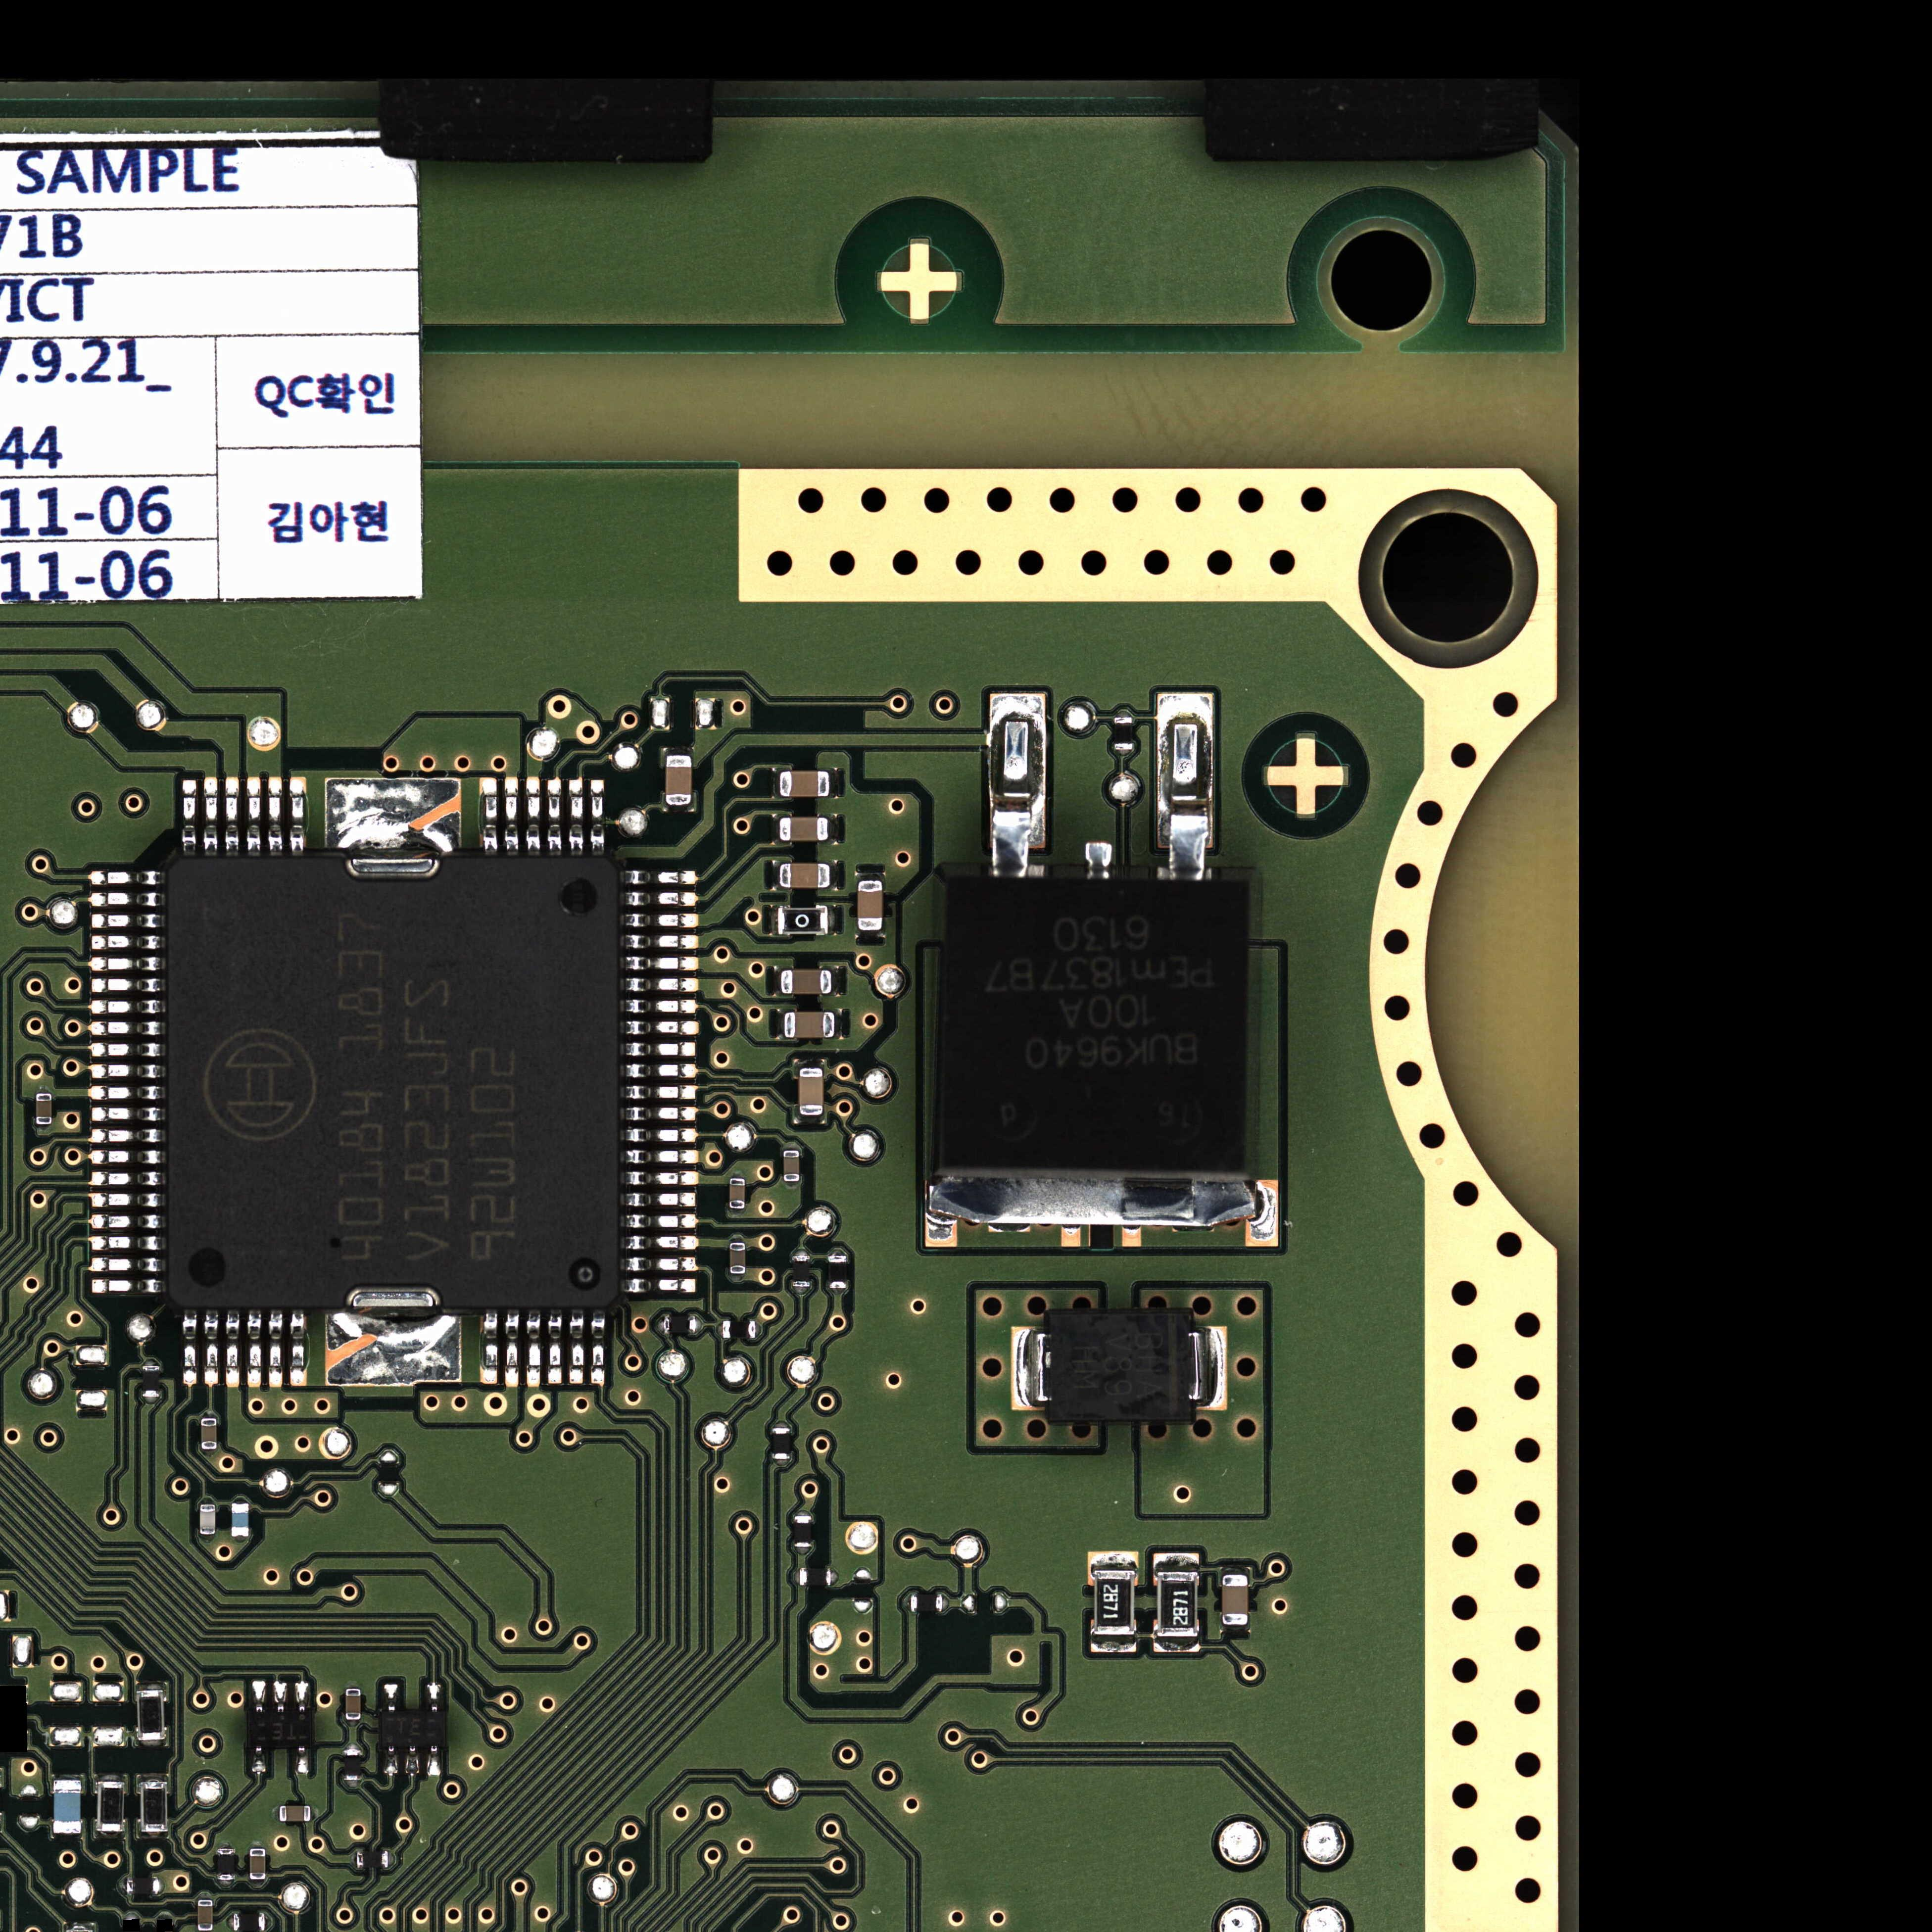Package: (166, 855, 623, 1311), (944, 881, 1246, 1173), (1052, 1313, 1188, 1420), (1157, 1572, 1198, 1637), (1094, 1571, 1135, 1635), (380, 1711, 445, 1746), (248, 1712, 312, 1747), (777, 907, 828, 935), (54, 1780, 81, 1833), (784, 1012, 834, 1038), (1222, 1574, 1248, 1625), (666, 755, 692, 805), (779, 863, 830, 888), (780, 771, 829, 797), (858, 880, 883, 930), (138, 1690, 163, 1740), (98, 1782, 123, 1832), (781, 969, 831, 994), (142, 1782, 166, 1832), (779, 817, 828, 841), (799, 1068, 823, 1115), (1114, 717, 1133, 750), (829, 1256, 847, 1288), (723, 1321, 756, 1339), (217, 1848, 236, 1881), (664, 1315, 696, 1334), (233, 1913, 265, 1931), (773, 1428, 791, 1459), (143, 1365, 160, 1397), (911, 1594, 942, 1612), (794, 1516, 812, 1547), (800, 1568, 831, 1586), (232, 1504, 248, 1536), (793, 1256, 810, 1287), (127, 1878, 158, 1894), (357, 1851, 388, 1868), (344, 1749, 361, 1780), (783, 1151, 799, 1181), (249, 1849, 265, 1880), (36, 1093, 51, 1124), (201, 1418, 217, 1449), (730, 1243, 745, 1274), (200, 1504, 215, 1534), (280, 1806, 310, 1821), (346, 1689, 361, 1720), (198, 1900, 213, 1931), (730, 1178, 745, 1208)
Solder: (923, 1178, 1280, 1247), (989, 692, 1046, 881), (1157, 692, 1213, 881), (325, 778, 461, 854), (326, 1310, 460, 1387), (1011, 1326, 1052, 1410), (1189, 1326, 1227, 1411), (290, 1310, 308, 1387), (479, 1310, 498, 1385), (480, 777, 498, 854), (290, 776, 306, 855), (623, 1277, 697, 1294), (622, 869, 697, 885), (622, 891, 698, 907), (623, 1235, 699, 1251), (622, 1020, 699, 1035), (623, 1257, 699, 1272), (622, 999, 698, 1014), (623, 1149, 699, 1164), (623, 1171, 699, 1186), (225, 776, 240, 855), (90, 1021, 165, 1036), (623, 1213, 698, 1229), (90, 1064, 165, 1079), (90, 1150, 165, 1165), (622, 1085, 697, 1100), (569, 1311, 584, 1384), (91, 1171, 165, 1187), (623, 1063, 697, 1079), (622, 1042, 697, 1057), (90, 1193, 165, 1208), (622, 977, 699, 992), (268, 1311, 283, 1388), (622, 956, 699, 971), (622, 913, 699, 928), (622, 934, 699, 949), (247, 1311, 262, 1388), (526, 776, 540, 853), (504, 776, 519, 853), (569, 777, 584, 854), (204, 776, 218, 856), (89, 1128, 165, 1143), (89, 1086, 165, 1101), (622, 1107, 698, 1121), (90, 1000, 165, 1014), (247, 776, 261, 855), (505, 1310, 519, 1389), (90, 1257, 165, 1272), (90, 1236, 165, 1251), (89, 892, 164, 907), (90, 1043, 165, 1058), (89, 957, 164, 971), (268, 776, 283, 854), (89, 871, 164, 886), (90, 1214, 165, 1229), (527, 1311, 541, 1388), (91, 978, 165, 993), (182, 779, 196, 856), (91, 1107, 165, 1121), (623, 1192, 696, 1207), (622, 1128, 698, 1143), (225, 1311, 240, 1387), (91, 1279, 164, 1294), (91, 914, 164, 928), (92, 935, 164, 950), (547, 778, 562, 853), (204, 1311, 219, 1386), (183, 1311, 197, 1386), (1084, 842, 1112, 879), (548, 1311, 562, 1385), (591, 1311, 605, 1385), (590, 779, 604, 855), (1088, 1551, 1139, 1570), (1153, 1553, 1200, 1572), (1091, 1635, 1136, 1653), (1154, 1637, 1200, 1653), (251, 1681, 266, 1712), (294, 1682, 308, 1712), (273, 1682, 287, 1712), (384, 1747, 398, 1775), (252, 1747, 267, 1774), (405, 1747, 419, 1775), (427, 1746, 440, 1775), (427, 1683, 441, 1711), (295, 1747, 309, 1774), (385, 1684, 397, 1711), (828, 905, 838, 935), (834, 1009, 844, 1039), (831, 966, 841, 996), (771, 860, 780, 891), (829, 768, 839, 798), (795, 1059, 825, 1068), (828, 814, 838, 844), (794, 1115, 825, 1124), (769, 905, 777, 936), (137, 1773, 168, 1782), (771, 768, 780, 799), (775, 1009, 784, 1039), (856, 930, 886, 939), (855, 871, 885, 880), (136, 1682, 165, 1690), (64, 1921, 95, 1930), (663, 746, 694, 755), (773, 966, 781, 997), (95, 1773, 126, 1782), (1220, 1566, 1251, 1574), (830, 861, 838, 891), (663, 805, 695, 813), (771, 814, 779, 844), (95, 1831, 125, 1838), (135, 1740, 168, 1747), (1220, 1625, 1251, 1632), (138, 1832, 168, 1839), (53, 1773, 83, 1780), (53, 1833, 82, 1839), (1114, 709, 1132, 717), (773, 1420, 790, 1428), (794, 1547, 812, 1555), (123, 1912, 141, 1919), (388, 1851, 396, 1868), (792, 1568, 799, 1585), (793, 1287, 811, 1294), (773, 1459, 791, 1466), (657, 1316, 664, 1334), (942, 1594, 949, 1612), (729, 1274, 745, 1281), (783, 1143, 800, 1150), (1115, 750, 1134, 756), (829, 1288, 848, 1295), (904, 1594, 911, 1611), (143, 1358, 160, 1365), (793, 1249, 810, 1256), (142, 1397, 160, 1403), (831, 1569, 839, 1585), (201, 1411, 217, 1418), (696, 1316, 703, 1333), (227, 1914, 234, 1931), (716, 1321, 723, 1339), (198, 1892, 213, 1899), (249, 1841, 266, 1848), (728, 1209, 746, 1215), (794, 1509, 812, 1515), (272, 1806, 280, 1821), (218, 1841, 234, 1848), (344, 1780, 360, 1787), (350, 1852, 357, 1868), (783, 1182, 800, 1188), (218, 1881, 235, 1887), (265, 1914, 271, 1931), (310, 1806, 318, 1821), (250, 1880, 265, 1886), (729, 1236, 745, 1243), (345, 1743, 360, 1750), (345, 1682, 361, 1689), (756, 1321, 762, 1339), (829, 1250, 847, 1256), (345, 1720, 360, 1727), (158, 1879, 165, 1893), (36, 1087, 52, 1093), (232, 1497, 249, 1503), (730, 1171, 745, 1178), (36, 1125, 52, 1131), (201, 1449, 217, 1455), (232, 1537, 248, 1543), (199, 1498, 215, 1504), (158, 1913, 172, 1920), (120, 1879, 126, 1892), (199, 1535, 215, 1540)
